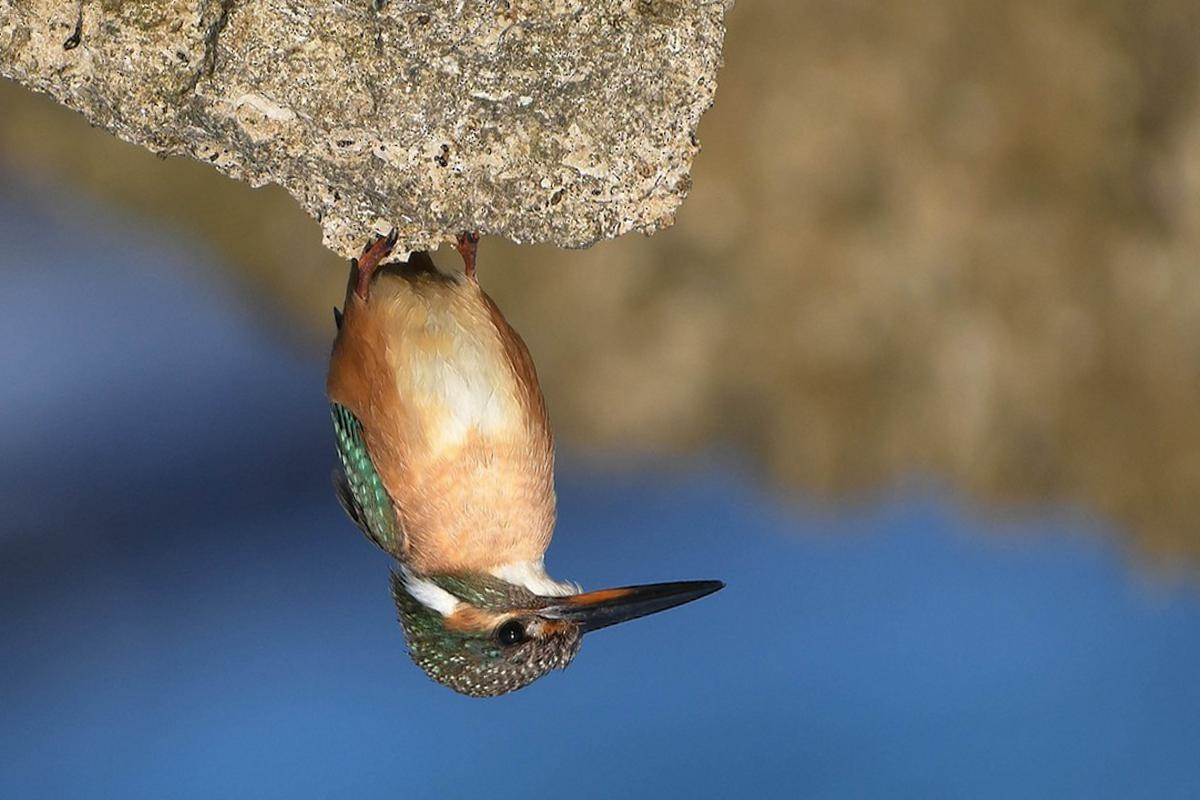kingfisher: (291, 208, 736, 697)
